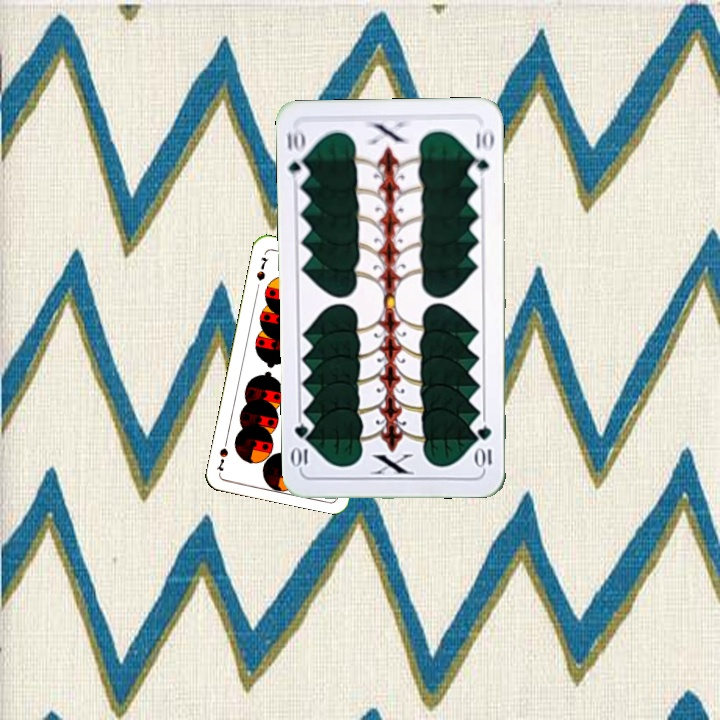G10: (283, 125, 310, 184), (474, 422, 494, 471)
S7: (252, 253, 271, 283)
